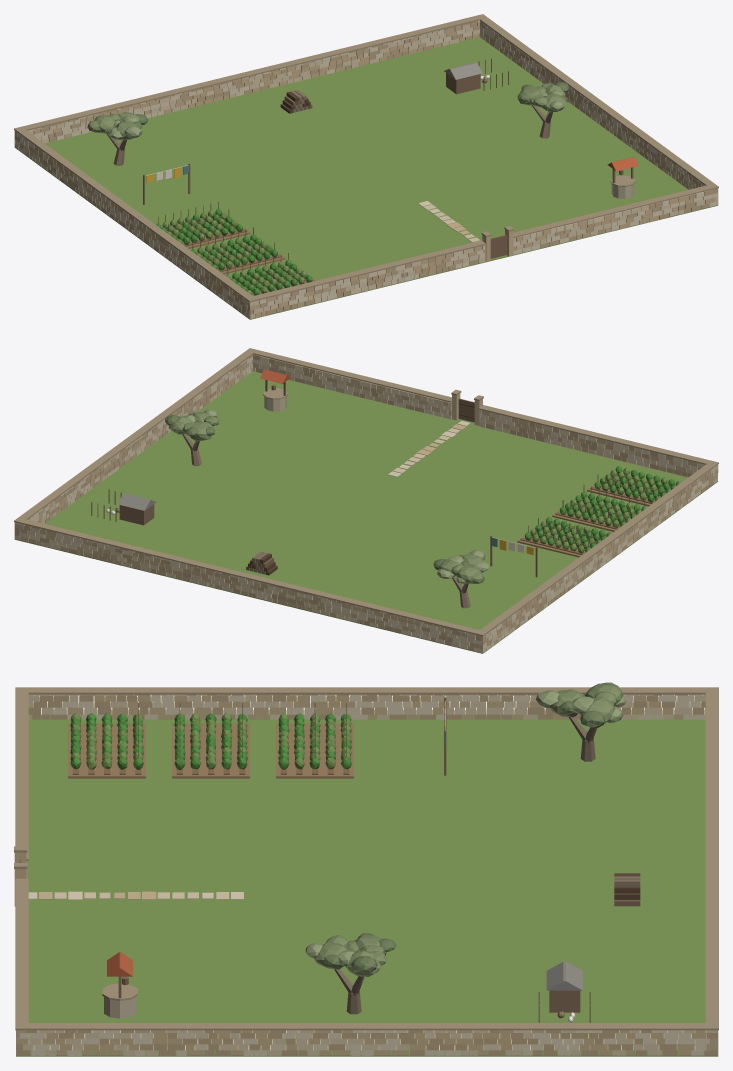
Rendered from bahce-arsasi-ciftlik.glb.
The picture shows the model from 3 angles, top to bottom: view 1: azimuth 30°, elevation 25°; view 2: azimuth 150°, elevation 25°; view 3: azimuth 270°, elevation 25°; orthographic projection. The views are drawn at different scales.
Parts seen in each view (by area): view 1: cim, tas_koyu, tas2, tas4, tas1, tas3, biber, yaprak1, ahsap, zeytin1, kabuk, toprak (+2 smaller); view 2: cim, tas_koyu, tas2, tas4, tas1, tas3, biber, yaprak1, ahsap, zeytin1, toprak, toprak2 (+2 smaller); view 3: cim, tas_koyu, tas2, tas4, tas3, tas1, toprak, biber, yaprak1, zeytin1, ahsap, kabuk (+5 smaller).
Part boxes in pixels (<box>): cim: <box>14,37,718,319</box>; tas_koyu: <box>14,14,718,302</box>; tas2: <box>14,21,718,317</box>; tas4: <box>14,20,717,306</box>; tas1: <box>14,21,717,319</box>; tas3: <box>14,21,718,315</box>; biber: <box>156,208,312,295</box>; yaprak1: <box>162,211,307,294</box>; ahsap: <box>143,58,633,274</box>; zeytin1: <box>87,83,566,140</box>; kabuk: <box>106,79,552,165</box>; toprak: <box>166,216,315,295</box>; cim: <box>14,371,718,653</box>; tas_koyu: <box>14,348,718,636</box>; tas2: <box>14,360,717,651</box>; tas4: <box>15,356,717,653</box>; tas1: <box>14,357,718,652</box>; tas3: <box>14,354,718,646</box>; biber: <box>525,466,676,552</box>; yaprak1: <box>530,468,681,553</box>; ahsap: <box>91,380,658,577</box>; zeytin1: <box>168,412,484,583</box>; toprak: <box>517,473,670,557</box>; toprak2: <box>520,474,670,554</box>; cim: <box>16,714,718,1056</box>; tas_koyu: <box>14,687,718,1030</box>; tas2: <box>14,694,718,1055</box>; tas4: <box>16,694,718,1055</box>; tas3: <box>16,694,718,1055</box>; tas1: <box>16,694,718,1055</box>; toprak: <box>68,723,353,778</box>; biber: <box>70,713,351,769</box>; yaprak1: <box>70,713,351,769</box>; zeytin1: <box>314,682,622,976</box>; ahsap: <box>19,697,640,1022</box>; kabuk: <box>334,717,640,1017</box>.
Size of the model in its own units: 31.06 by 3 by 27.11.
